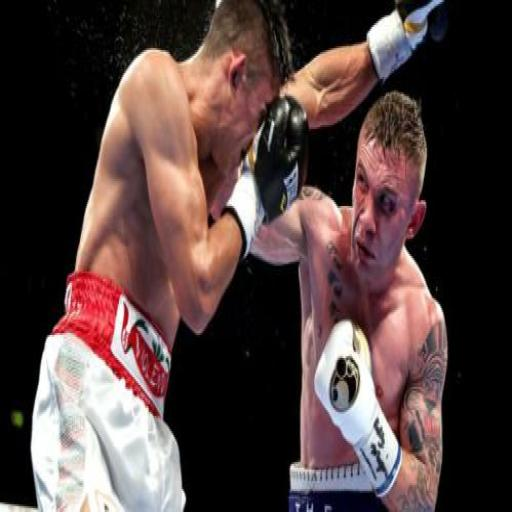boxing: (27, 0, 449, 510)
